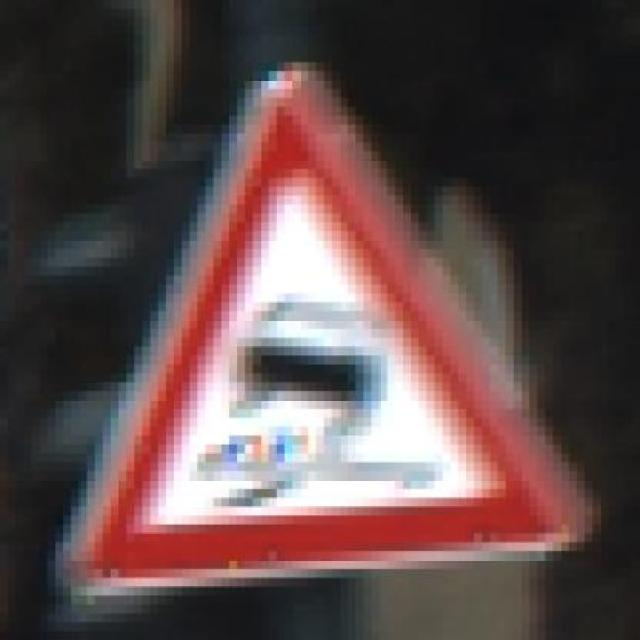Slippery Road Ahead: (54, 53, 608, 596)
